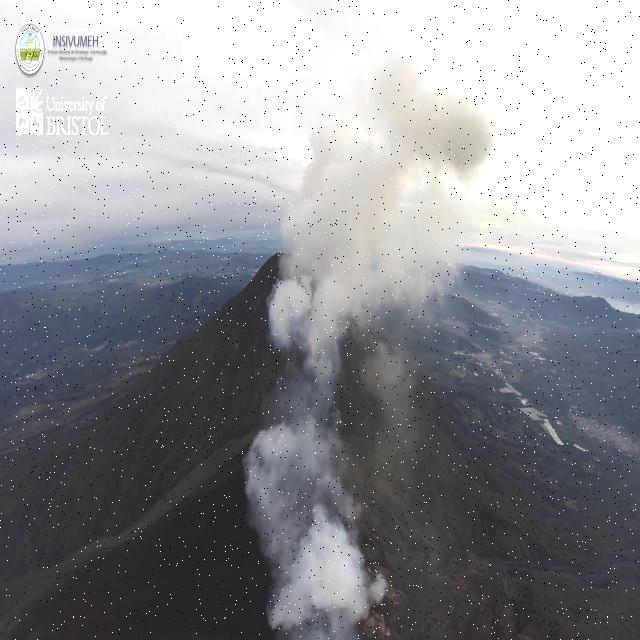Plume: (240, 40, 527, 640)
